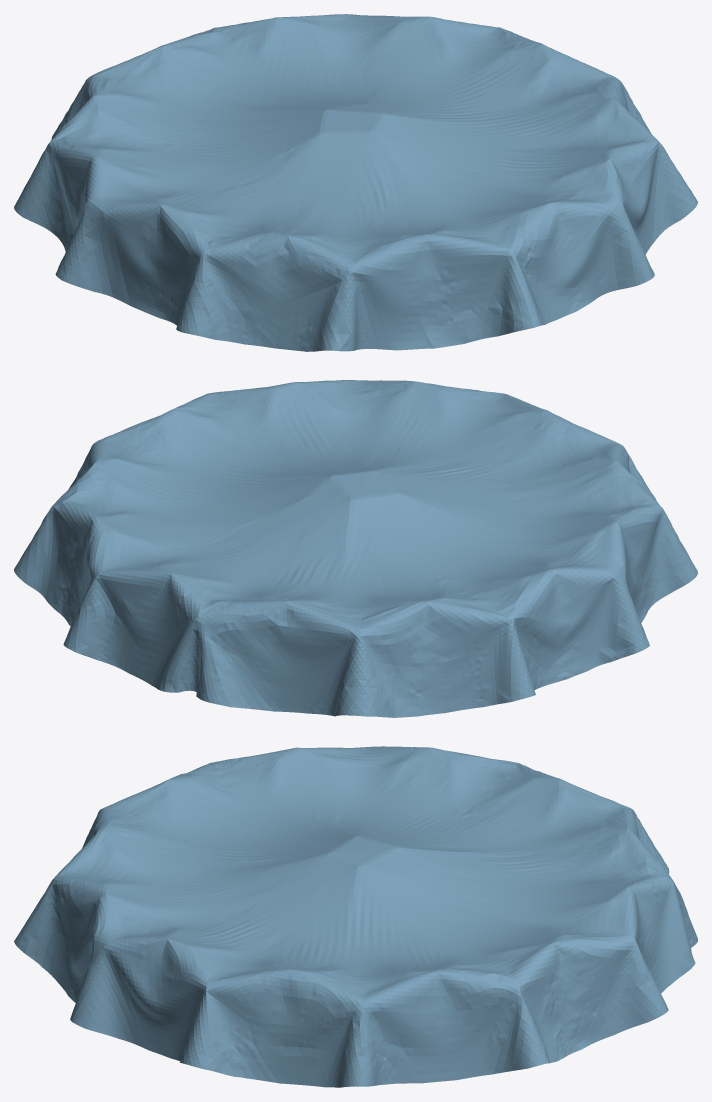
Rendered from level_3.glb.
The picture shows the model from 3 angles, top to bottom: view 1: azimuth 30°, elevation 25°; view 2: azimuth 150°, elevation 25°; view 3: azimuth 270°, elevation 25°; orthographic projection.
Parts seen in each view (by area): view 1: world; view 2: world; view 3: world.
Boxes of the visible parts, x1,y1,x2,y2 form: world: [14, 14, 697, 351]; world: [14, 380, 697, 717]; world: [14, 746, 697, 1087].
Bounding box in the file's own units: 0.5612 × 0.0969 × 0.5573.
